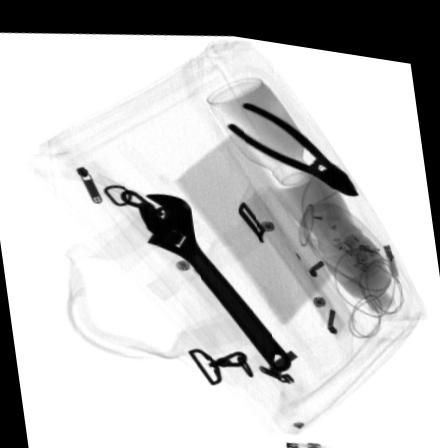Pliers: (226, 94, 358, 186)
Wrench: (138, 189, 291, 365)
